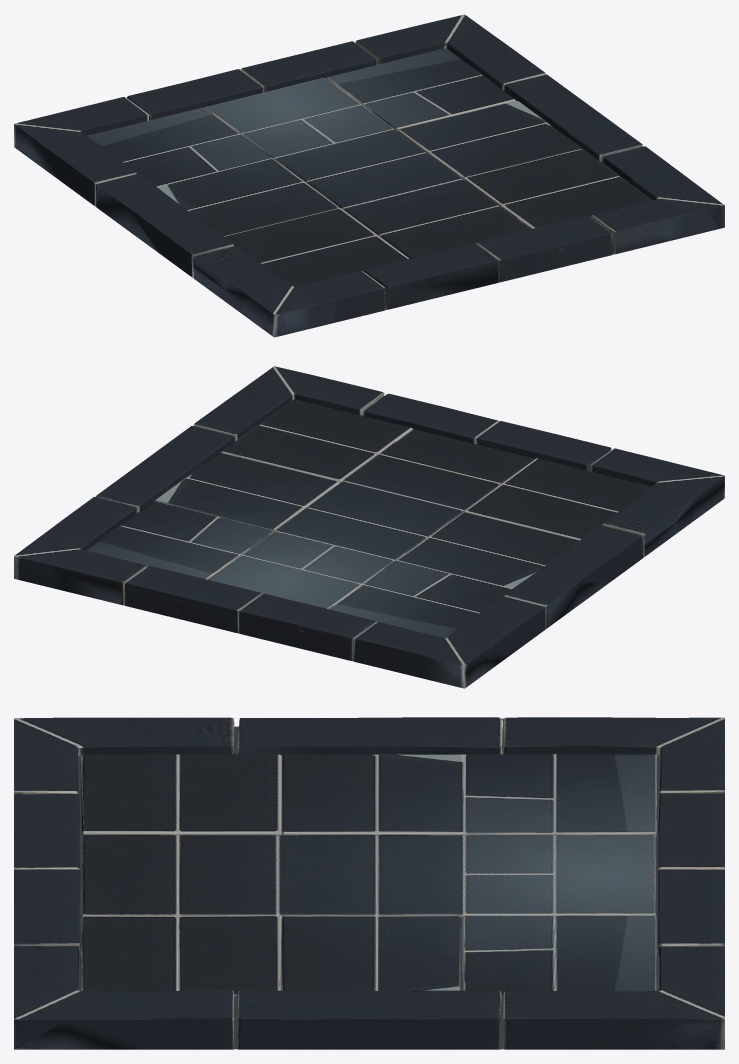
Rendered from floor-slate.glb.
The picture shows the model from 3 angles, top to bottom: view 1: azimuth 30°, elevation 25°; view 2: azimuth 150°, elevation 25°; view 3: azimuth 270°, elevation 25°; orthographic projection. The views are drawn at different scales.
Bounding box in the file's own units: 2 × 0.1 × 2.
Materials: 1 (1 with a texture image).
